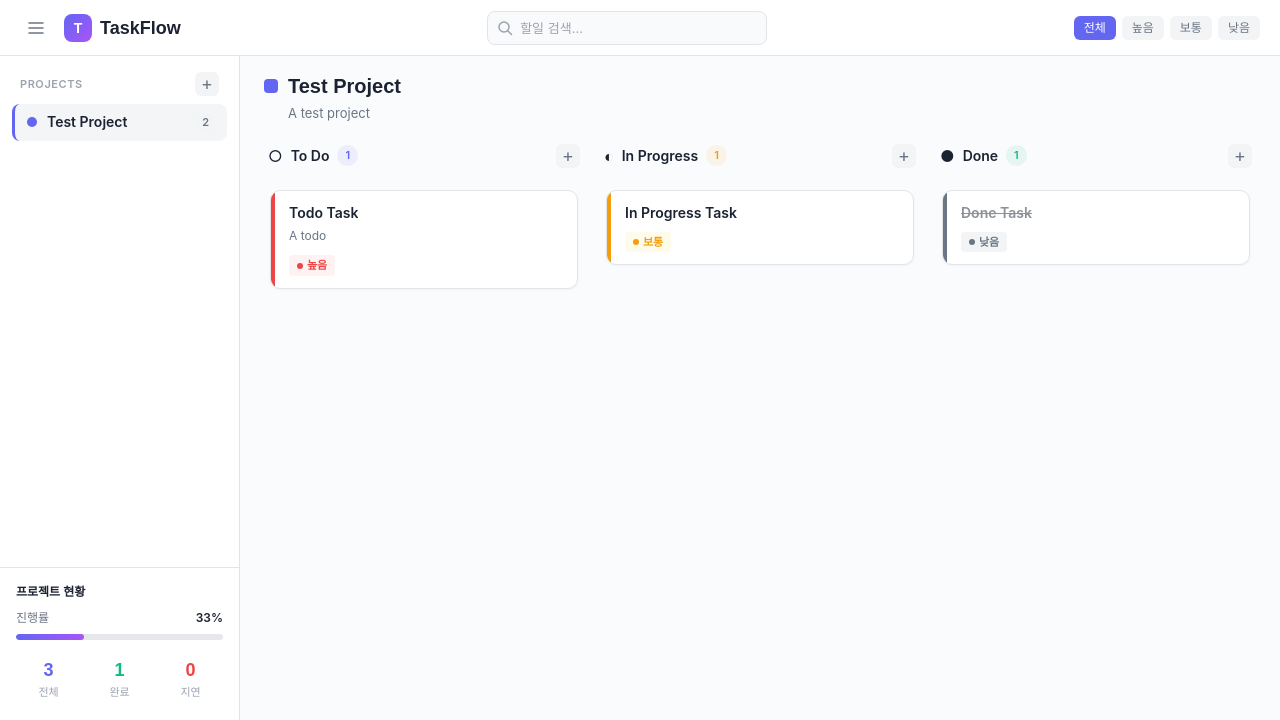
Test: Home Page › Priority Filtering › should show all tasks when 전체 filter is clicked
Expected: the heading "Todo Task" is shown, [289,204,358,220]
// First filter to HIGH
Click the button "높음" at (1143, 28), box [1122,16,1164,40]
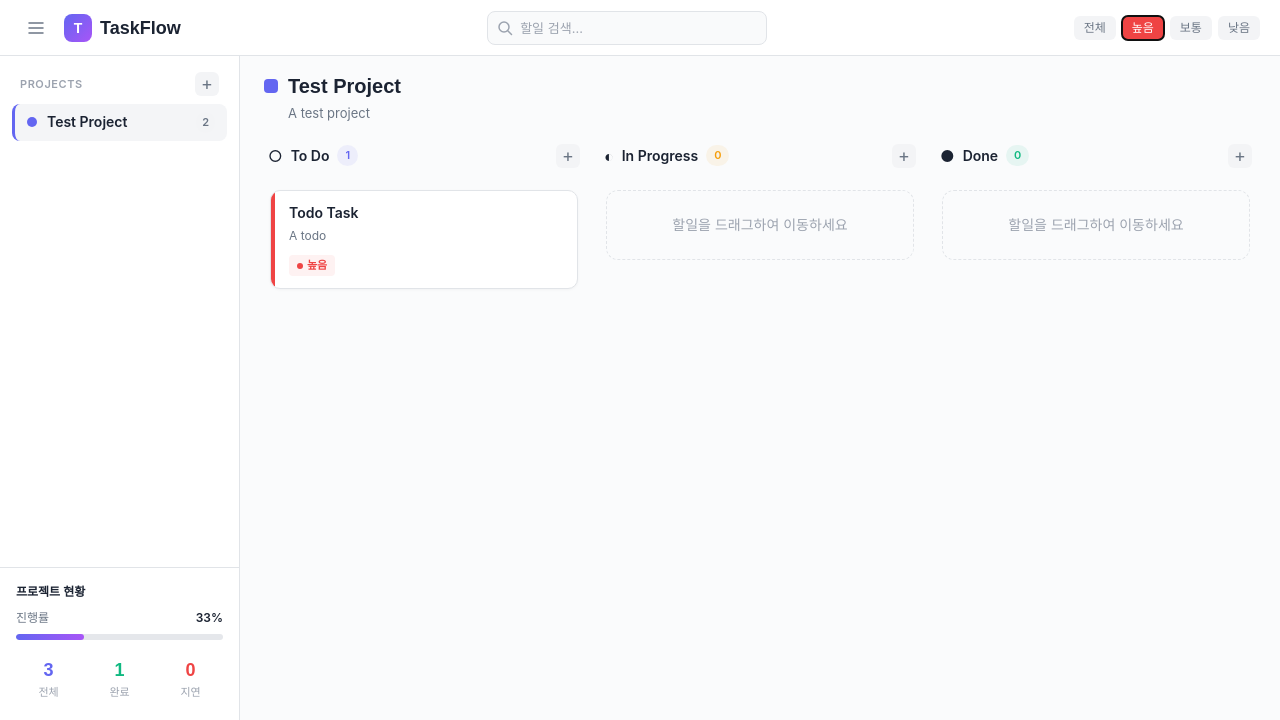
// Then click 전체 to reset
Click the button "전체" at (1095, 28), box [1074,16,1116,40]
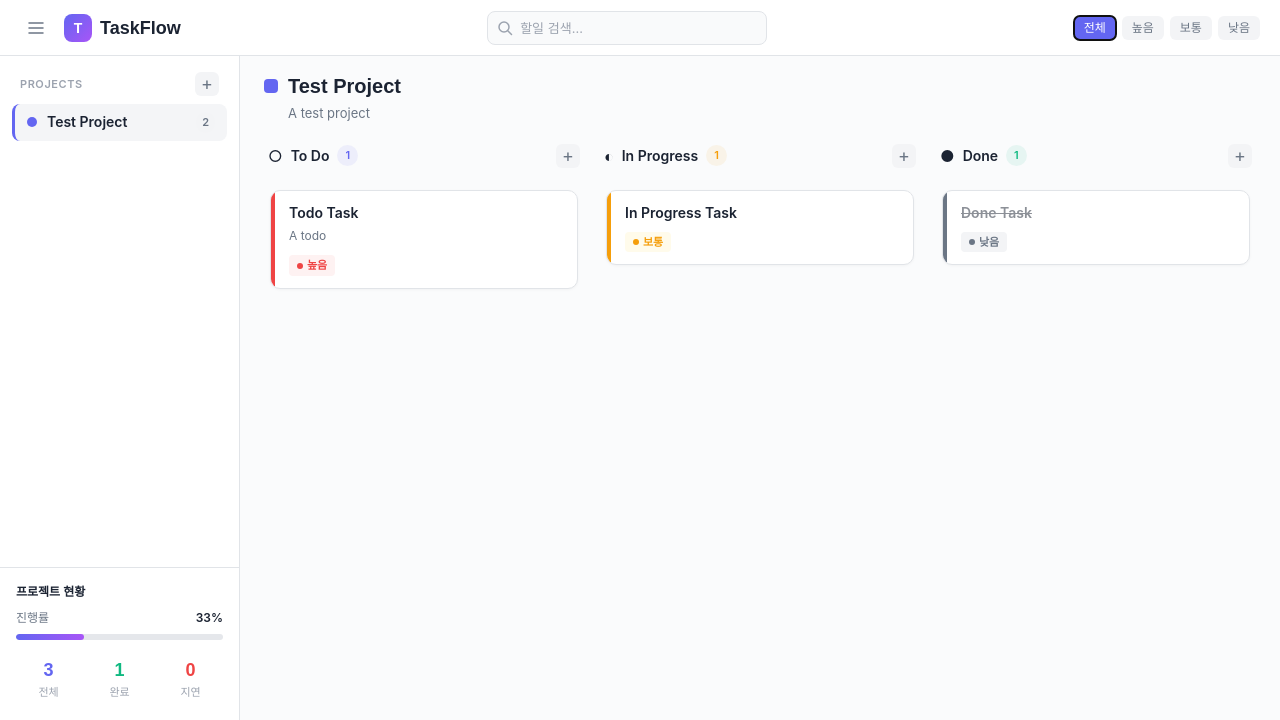
Expected: the heading "Todo Task" is shown, [289,204,358,220]
Now the heading "In Progress Task" is shown, box [625,204,737,220]
Now the heading "Done Task" is shown, box [961,204,1032,220]
